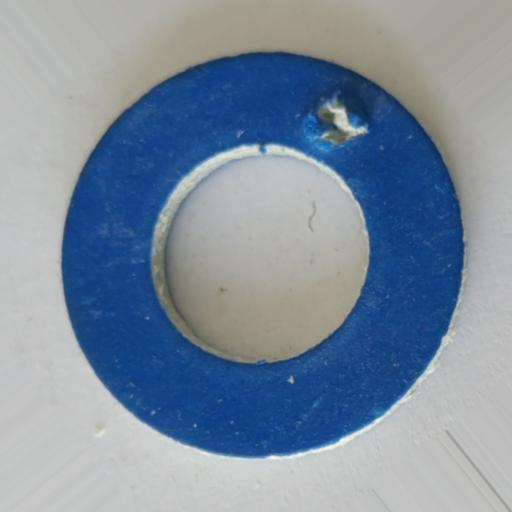defect: (299, 82, 375, 155)
